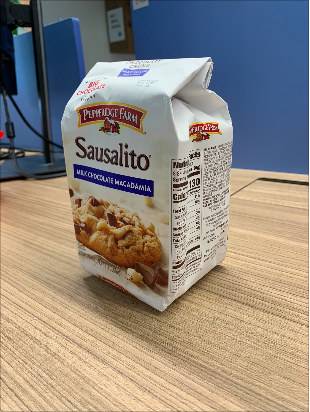Cookies_200-299g: (74, 94, 203, 286)
